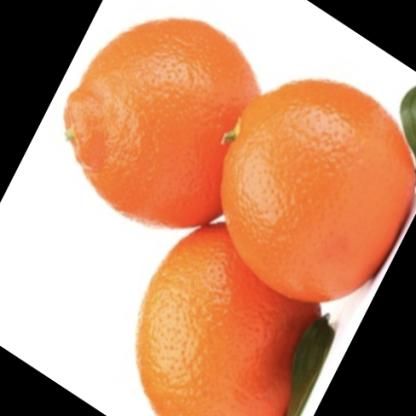fresh: (62, 19, 416, 416)
